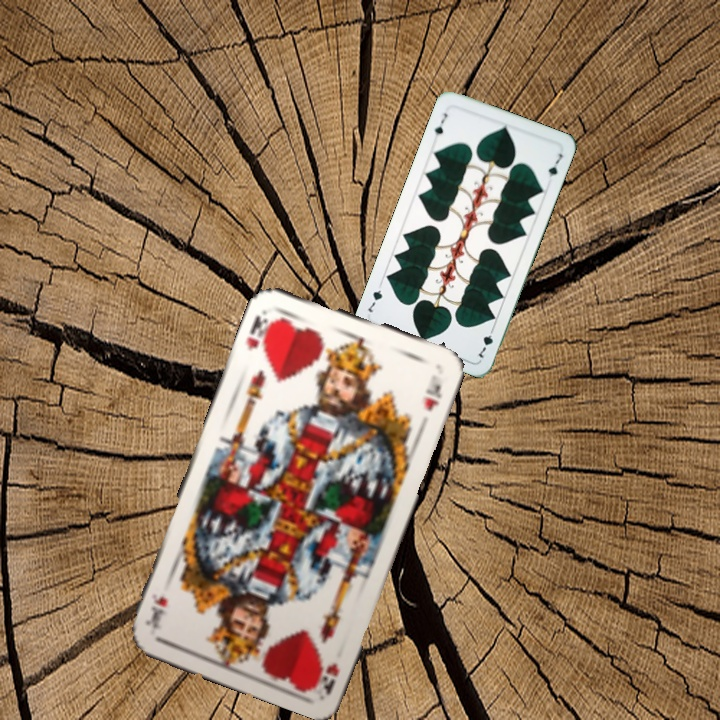G7: (474, 323, 497, 361), (430, 109, 450, 138)
HK: (242, 305, 278, 355), (311, 659, 342, 697)
